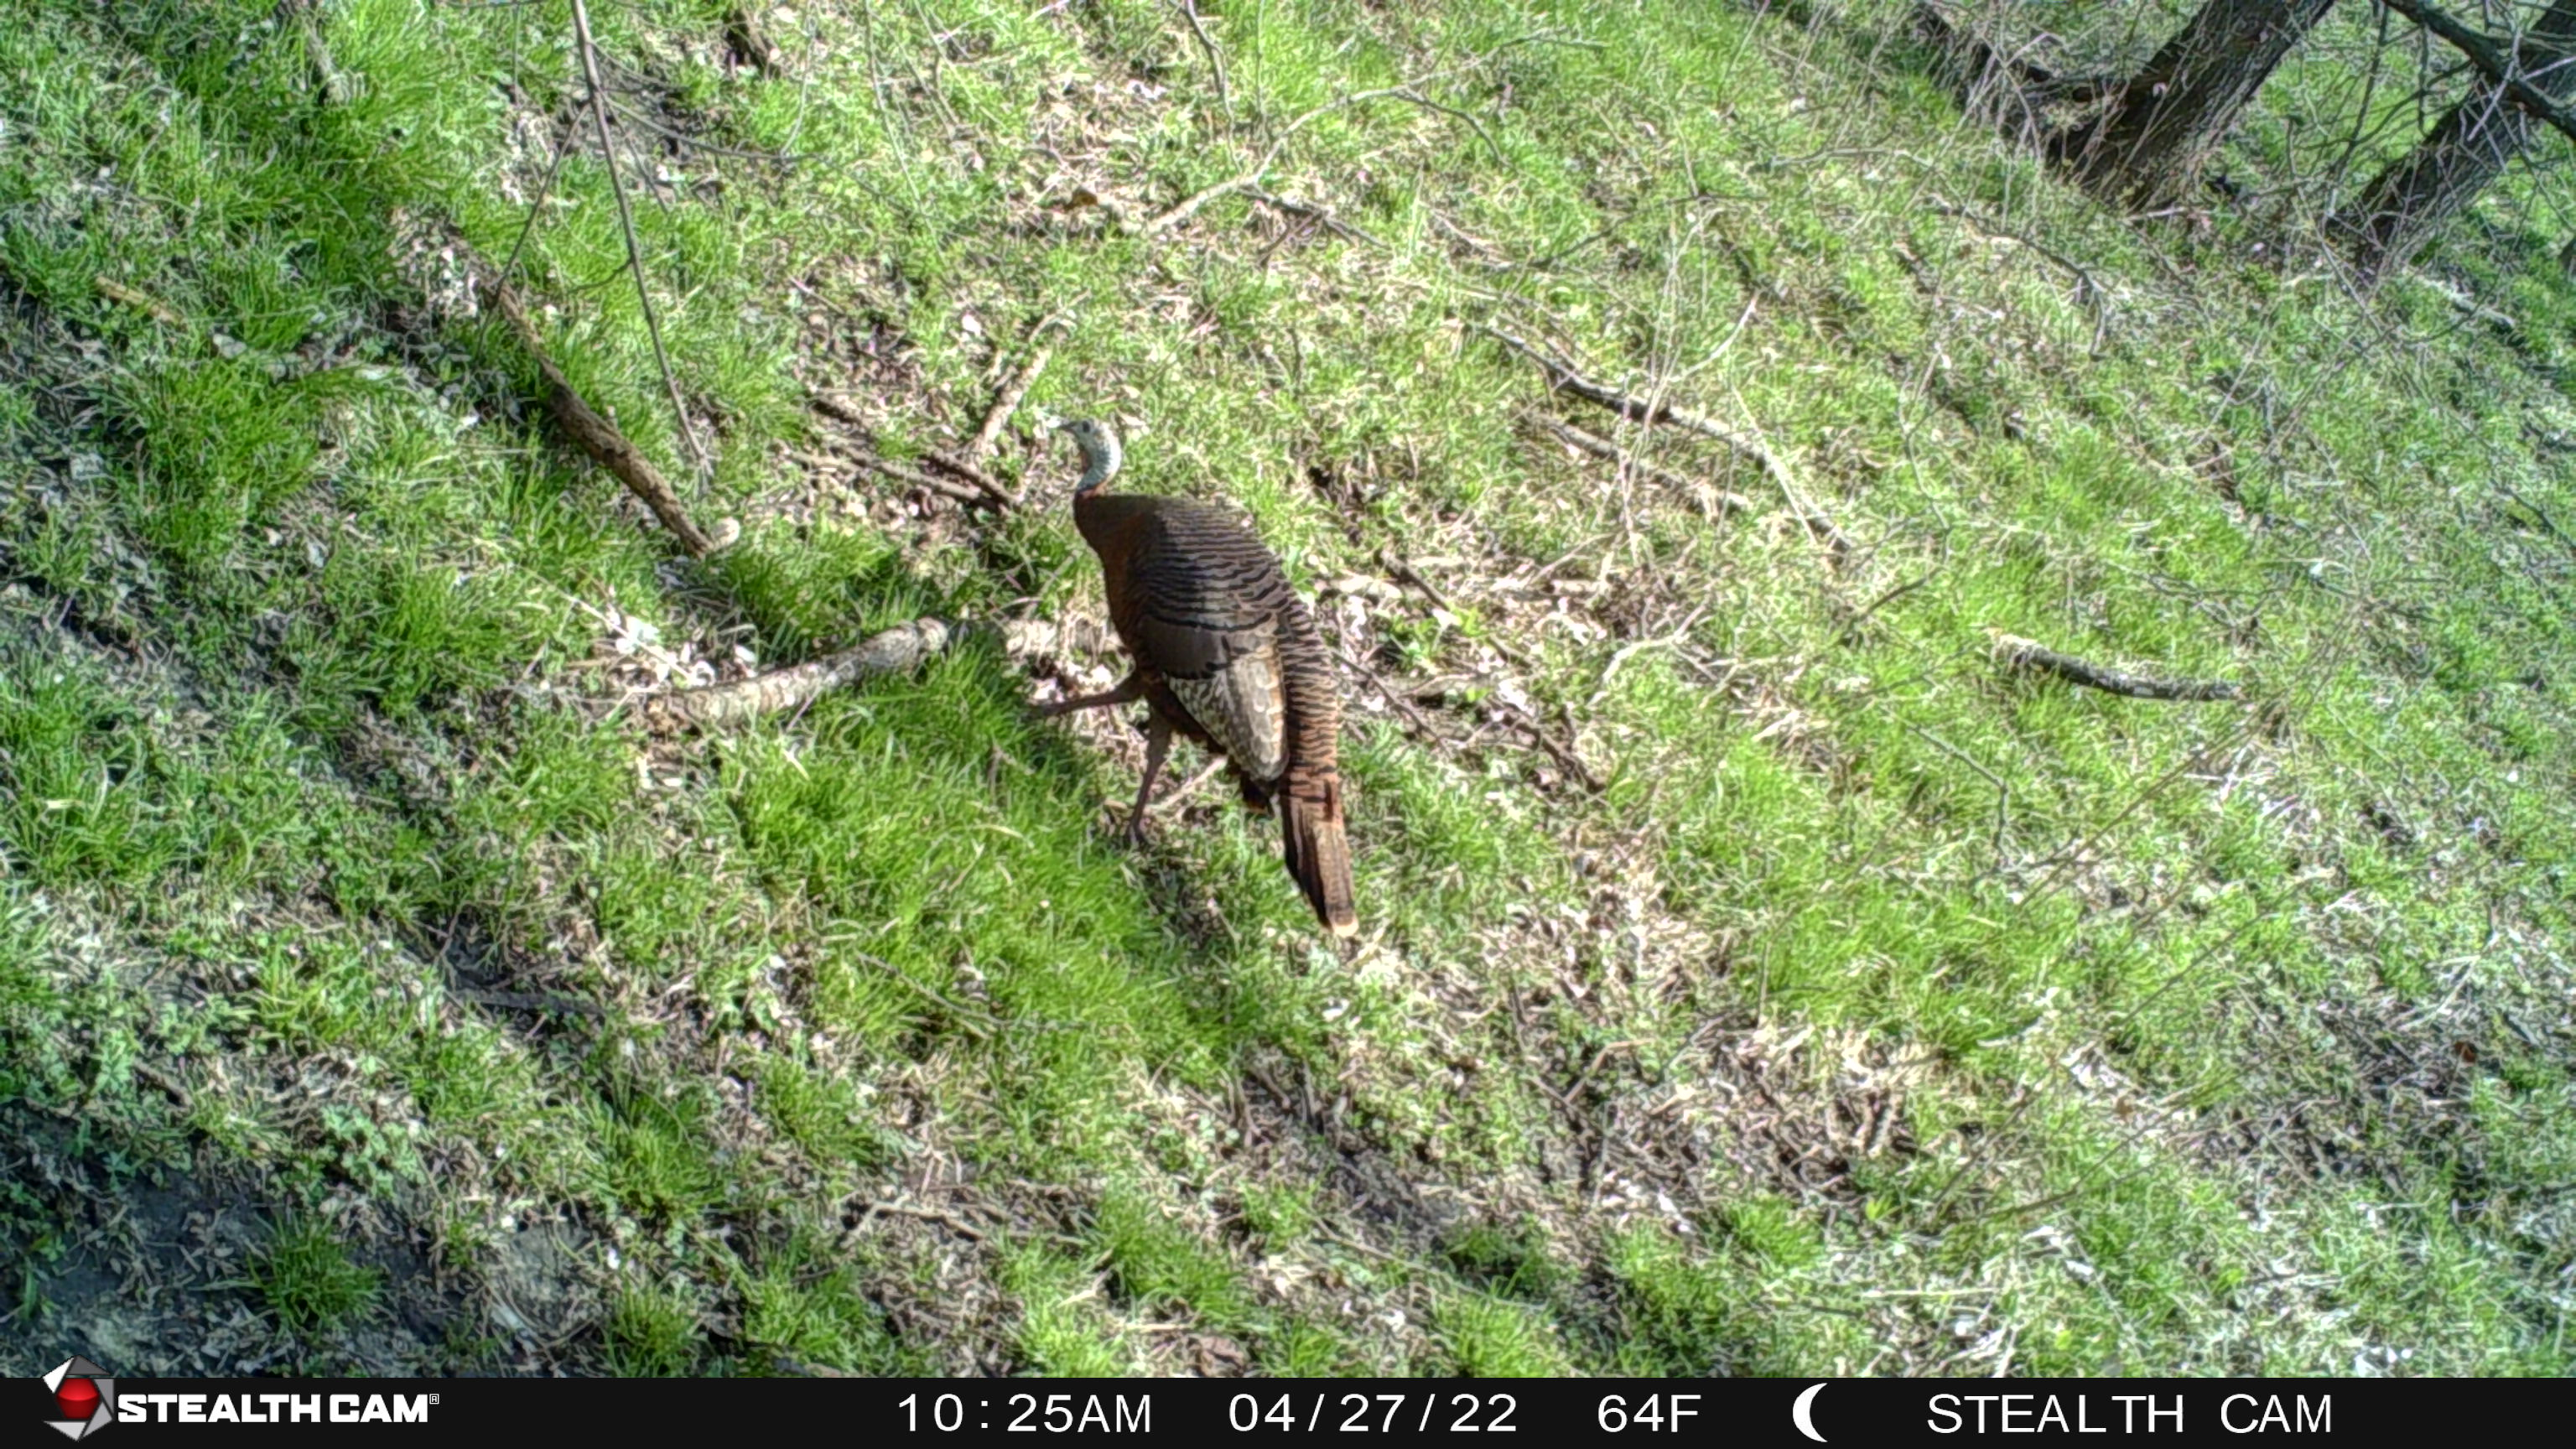Turkey: (1056, 409, 1353, 932)
